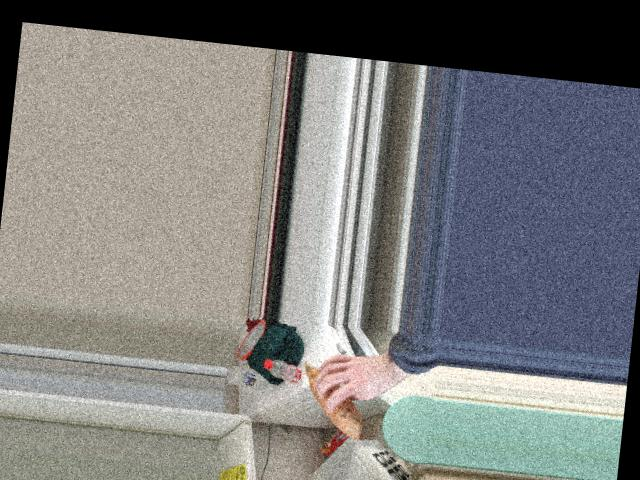sweet_potato: (300, 358, 367, 435)
